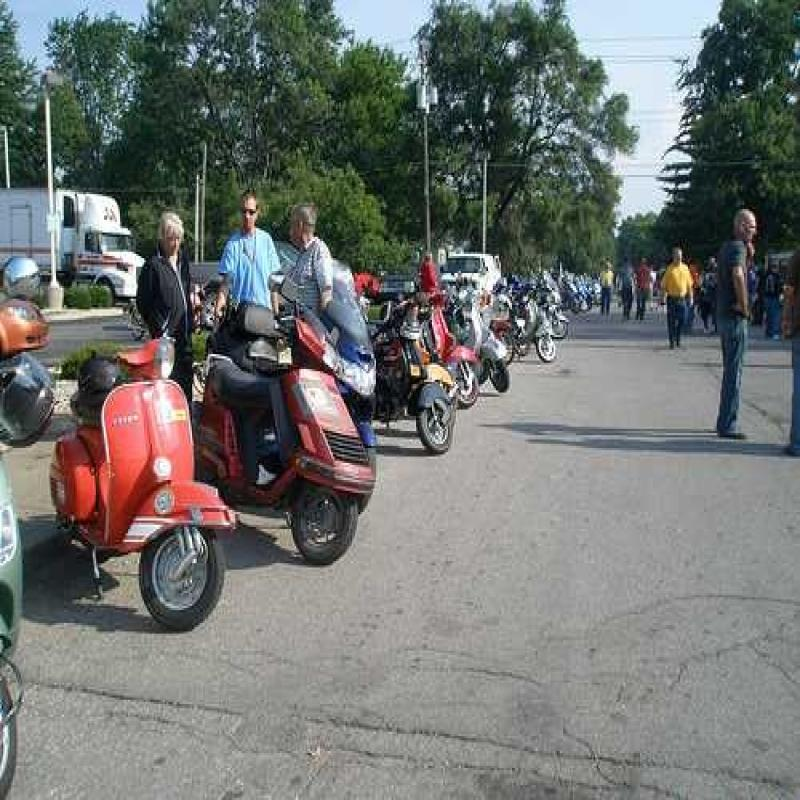bike: (72, 331, 226, 608)
